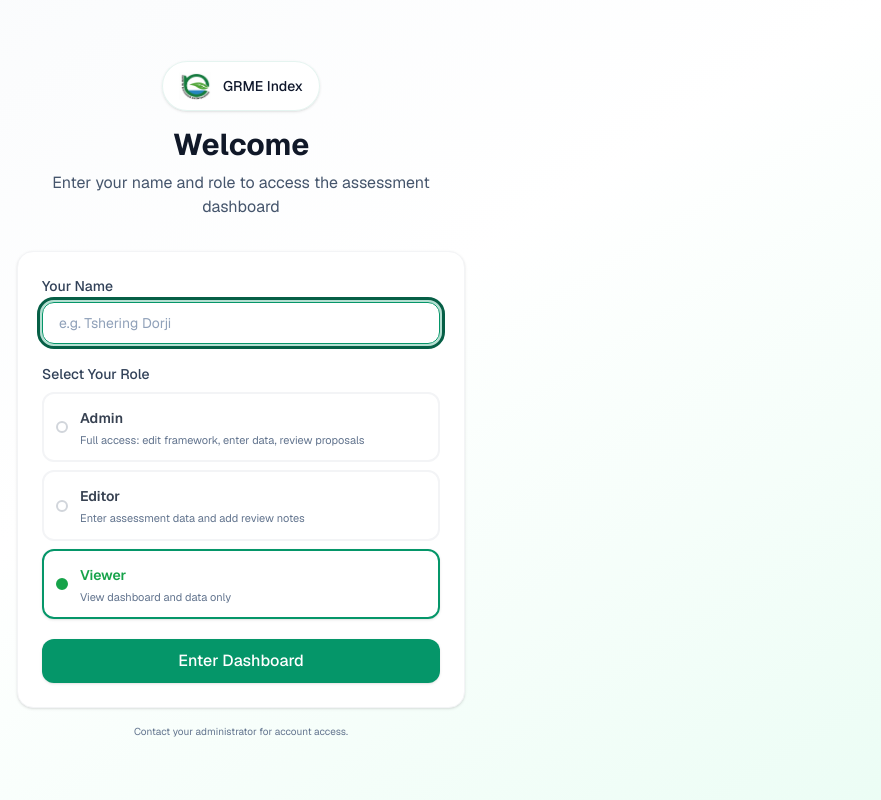
LoginScreen › shows error when submitting admin without password
Type "Admin User" into the field with placeholder "e.g. Tshering Dorji" at (241, 323), box [42,302,440,344]
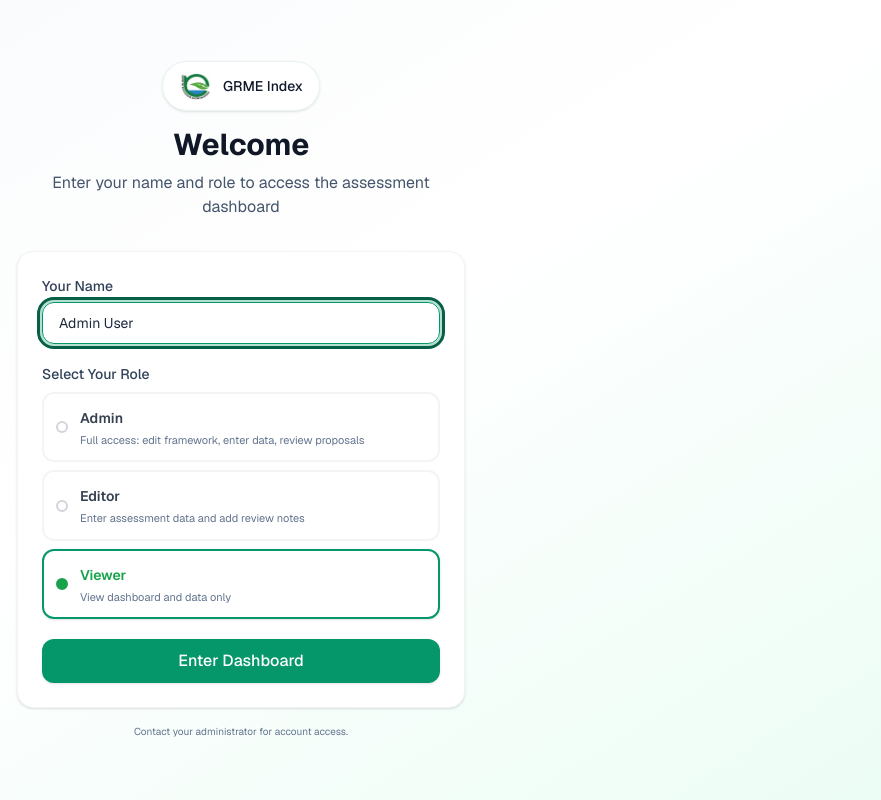
Click the radio button labelled "Admin" at (102, 418), box [42,392,440,462]
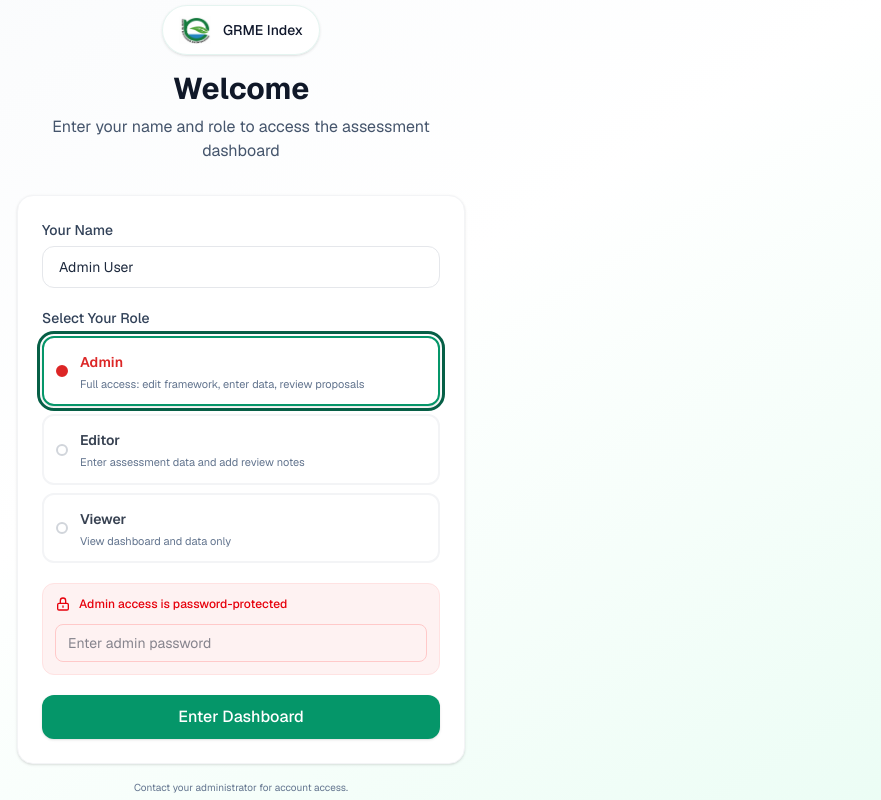
Click the button "Enter Dashboard" at (241, 717), box [42,695,440,739]
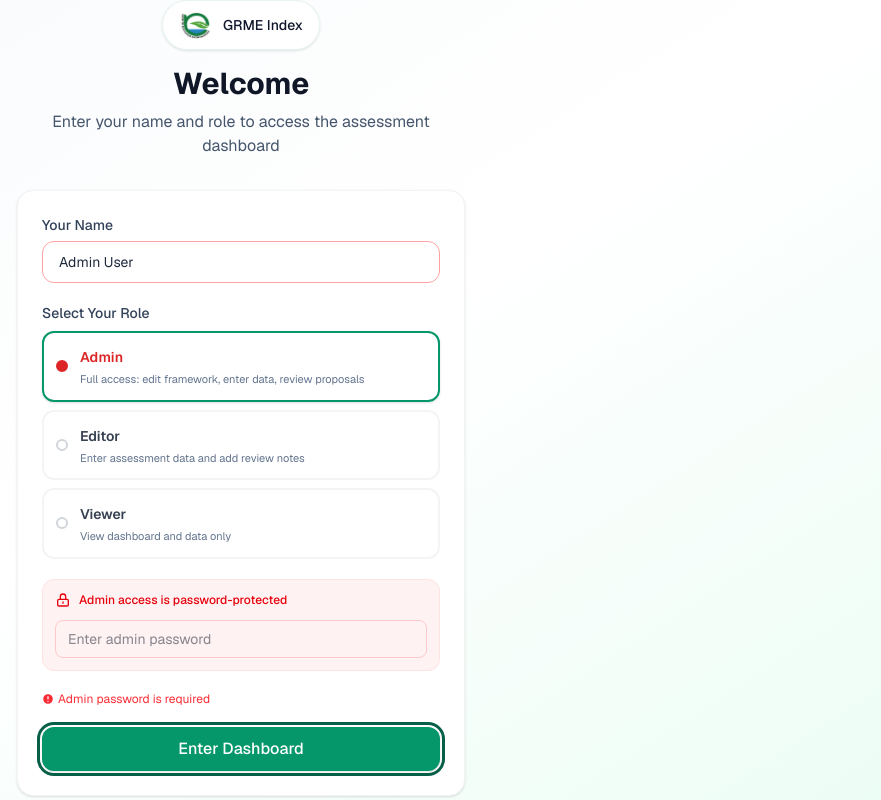
Expected: the text "Admin password is required" is shown, [42,690,210,706]
